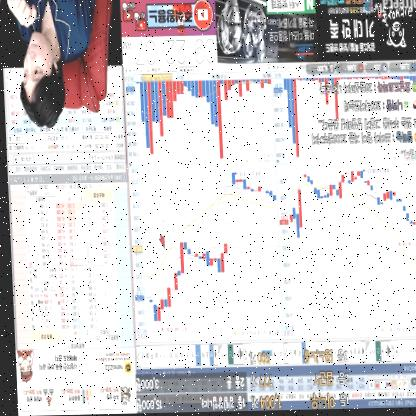streamer: (8, 0, 101, 130)
